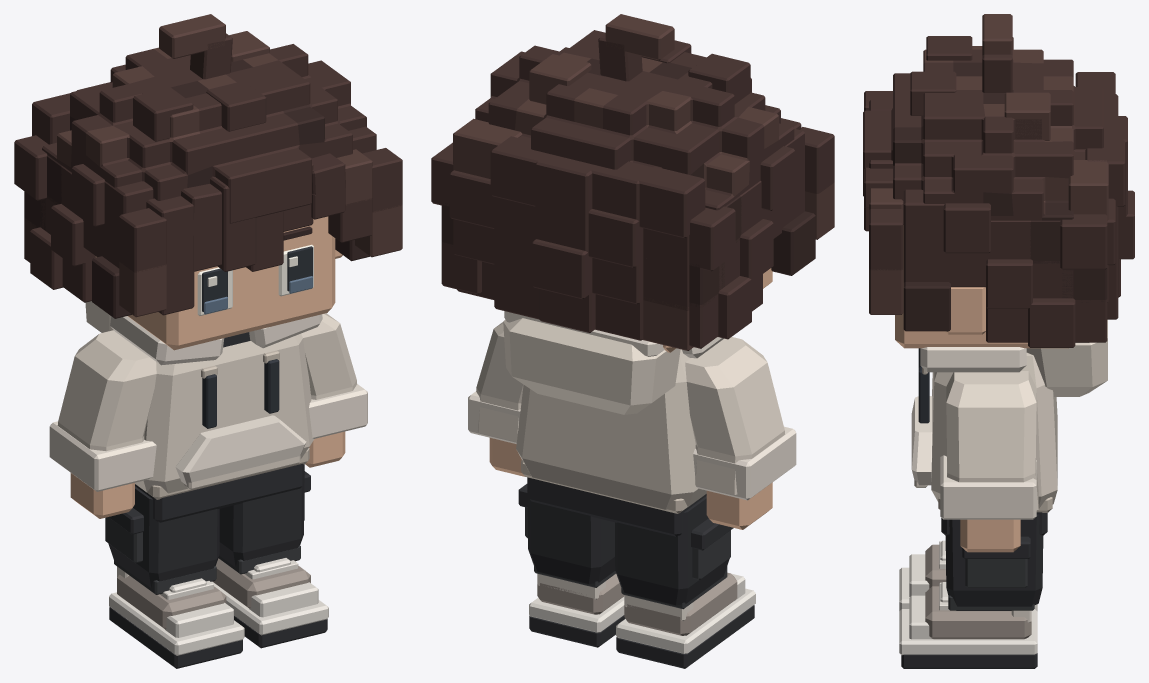
Rendered from human_v2.glb.
3 views of the same model, side by side, from view 1: azimuth 30°, elevation 25°; view 2: azimuth 150°, elevation 25°; view 3: azimuth 270°, elevation 25° (orthographic). The views are drawn at different scales.
Parts seen in each view (by area): view 1: HU2_r03_Hair, HU2_r03_Torso, HU2_r03_Arm.L, HU2_r03_Head, HU2_r03_Shoe.L, HU2_r03_Leg.L, HU2_r03_Shoe.R, HU2_r03_Arm.R, HU2_r03_Leg.R, HU2_r03_Hood, HU2_r03_Pelvis, HU2_r03_Eyes; view 2: HU2_r03_Hair, HU2_r03_Torso, HU2_r03_Arm.L, HU2_r03_Hood, HU2_r03_Leg.L, HU2_r03_Shoe.L, HU2_r03_Leg.R, HU2_r03_Shoe.R, HU2_r03_Arm.R, HU2_r03_Pelvis; view 3: HU2_r03_Hair, HU2_r03_Arm.R, HU2_r03_Shoe.R, HU2_r03_Torso, HU2_r03_Leg.R, HU2_r03_Hood, HU2_r03_Head, HU2_r03_Shoe.L.
Boxes of the visible parts, x1,y1,x2,y2 form: HU2_r03_Hair: (14, 14, 402, 318); HU2_r03_Torso: (135, 332, 314, 499); HU2_r03_Arm.L: (49, 330, 156, 518); HU2_r03_Head: (95, 216, 342, 350); HU2_r03_Shoe.L: (109, 566, 244, 668); HU2_r03_Leg.L: (105, 486, 219, 594); HU2_r03_Shoe.R: (211, 558, 328, 648); HU2_r03_Arm.R: (301, 313, 367, 467); HU2_r03_Leg.R: (218, 471, 310, 574); HU2_r03_Hood: (85, 301, 322, 365); HU2_r03_Pelvis: (135, 464, 304, 522); HU2_r03_Eyes: (197, 226, 313, 315); HU2_r03_Hair: (431, 14, 834, 350); HU2_r03_Torso: (516, 349, 706, 513); HU2_r03_Arm.L: (685, 337, 796, 529); HU2_r03_Hood: (503, 311, 723, 414); HU2_r03_Leg.L: (615, 496, 733, 609); HU2_r03_Shoe.L: (616, 572, 755, 668); HU2_r03_Leg.R: (518, 484, 615, 587); HU2_r03_Shoe.R: (529, 573, 625, 647); HU2_r03_Arm.R: (468, 322, 524, 476); HU2_r03_Pelvis: (527, 477, 706, 536); HU2_r03_Hair: (863, 14, 1134, 347); HU2_r03_Arm.R: (940, 371, 1038, 552); HU2_r03_Shoe.R: (899, 582, 1037, 668); HU2_r03_Torso: (911, 348, 1057, 512); HU2_r03_Leg.R: (945, 514, 1043, 610); HU2_r03_Hood: (920, 319, 1107, 396); HU2_r03_Head: (895, 225, 1068, 348); HU2_r03_Shoe.L: (899, 540, 1037, 611).
Size of the model in its own units: 0.7262 by 1.51 by 0.6189.
